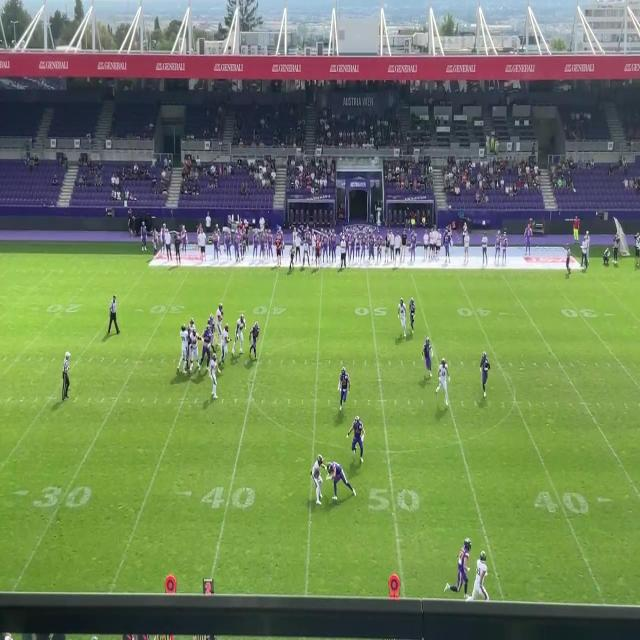3: (34, 479, 64, 517)
4: (530, 482, 561, 524), (200, 481, 227, 517)
5: (367, 482, 392, 519)
american-football-players: (443, 536, 471, 598), (326, 458, 356, 504), (471, 551, 493, 602), (347, 413, 365, 469), (310, 452, 327, 506), (436, 355, 452, 409), (336, 363, 352, 411), (420, 334, 436, 379), (477, 350, 491, 401), (208, 353, 222, 401), (189, 328, 201, 379), (199, 324, 212, 371), (233, 313, 247, 356), (220, 322, 232, 370), (177, 324, 188, 376), (248, 322, 261, 362), (397, 295, 408, 336), (406, 295, 416, 334), (214, 300, 224, 336), (206, 310, 215, 328), (187, 313, 195, 328)
